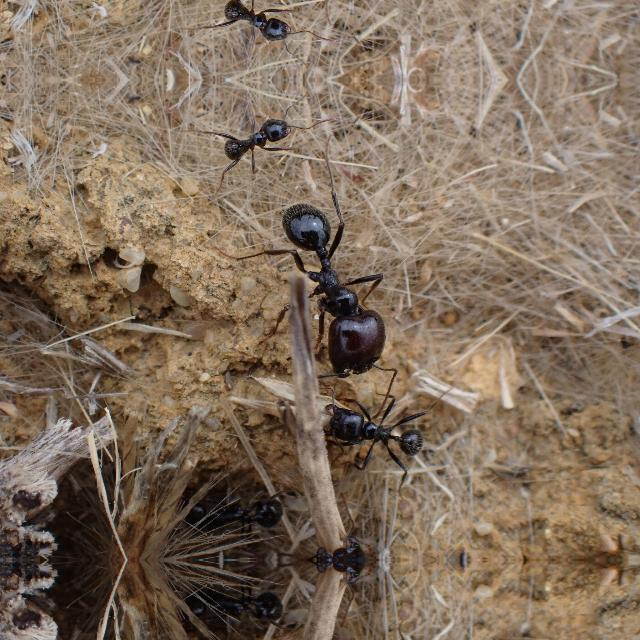Messor: (267, 188, 407, 392), (315, 384, 441, 486), (187, 466, 293, 538), (212, 106, 300, 182), (187, 581, 293, 640), (211, 0, 300, 53)
